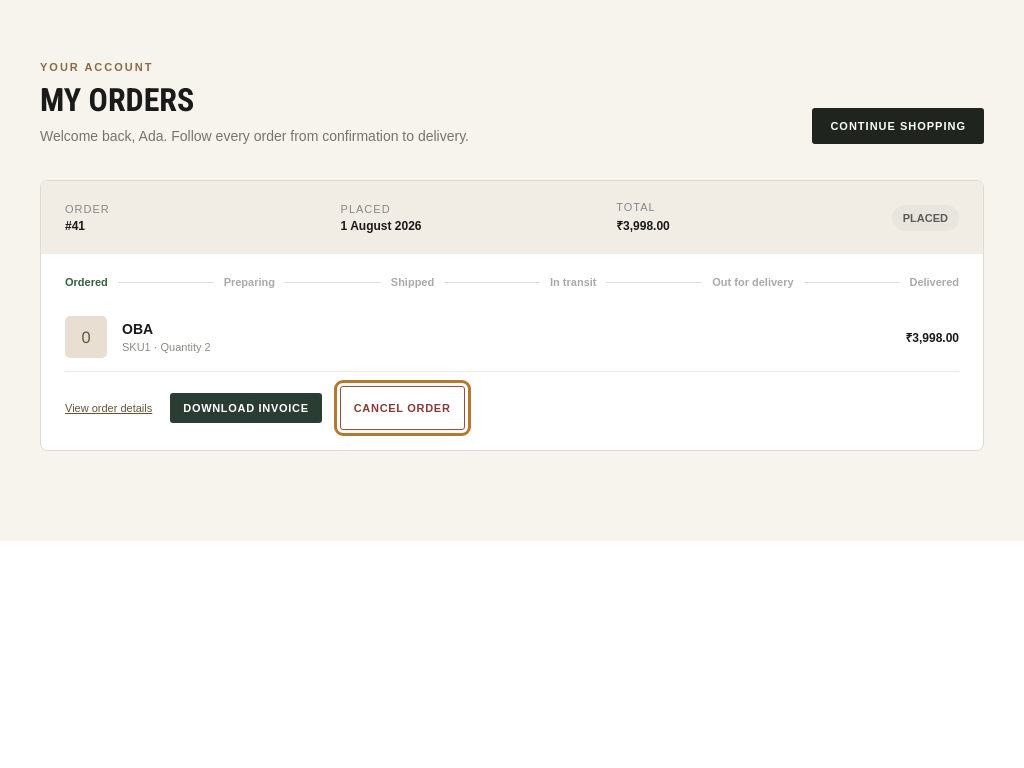
Test: a paid order warns about the refund before confirming
Expected: the text "#41" is shown, [65,218,85,232]
Click the button "Cancel order" at (402, 408), box [340,386,464,430]
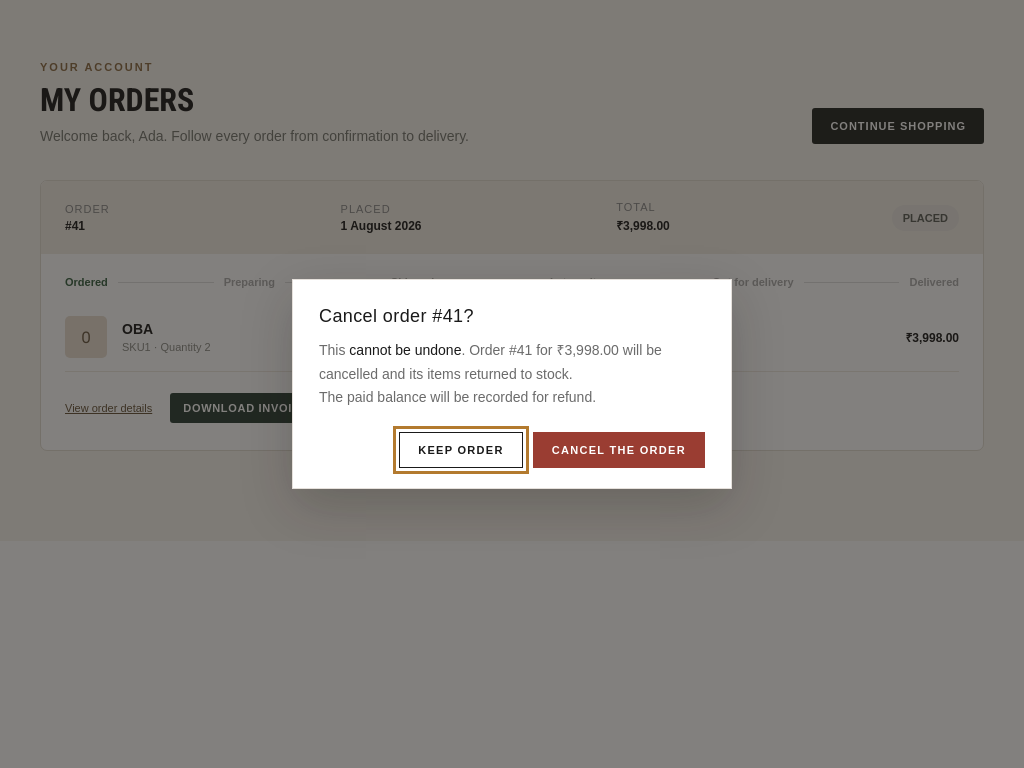
Now the dialog shows "recorded for refund", box [319,389,596,405]
